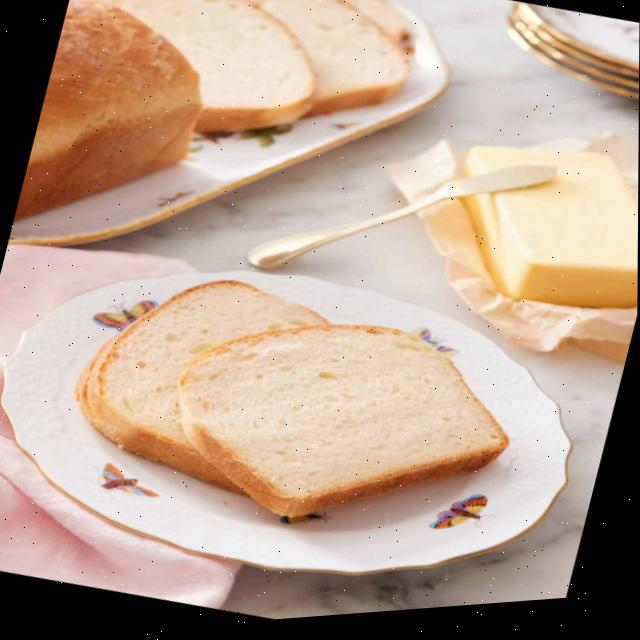Bread: (178, 329, 509, 520), (75, 283, 327, 496), (14, 0, 202, 218), (110, 0, 409, 135), (112, 0, 315, 135)
